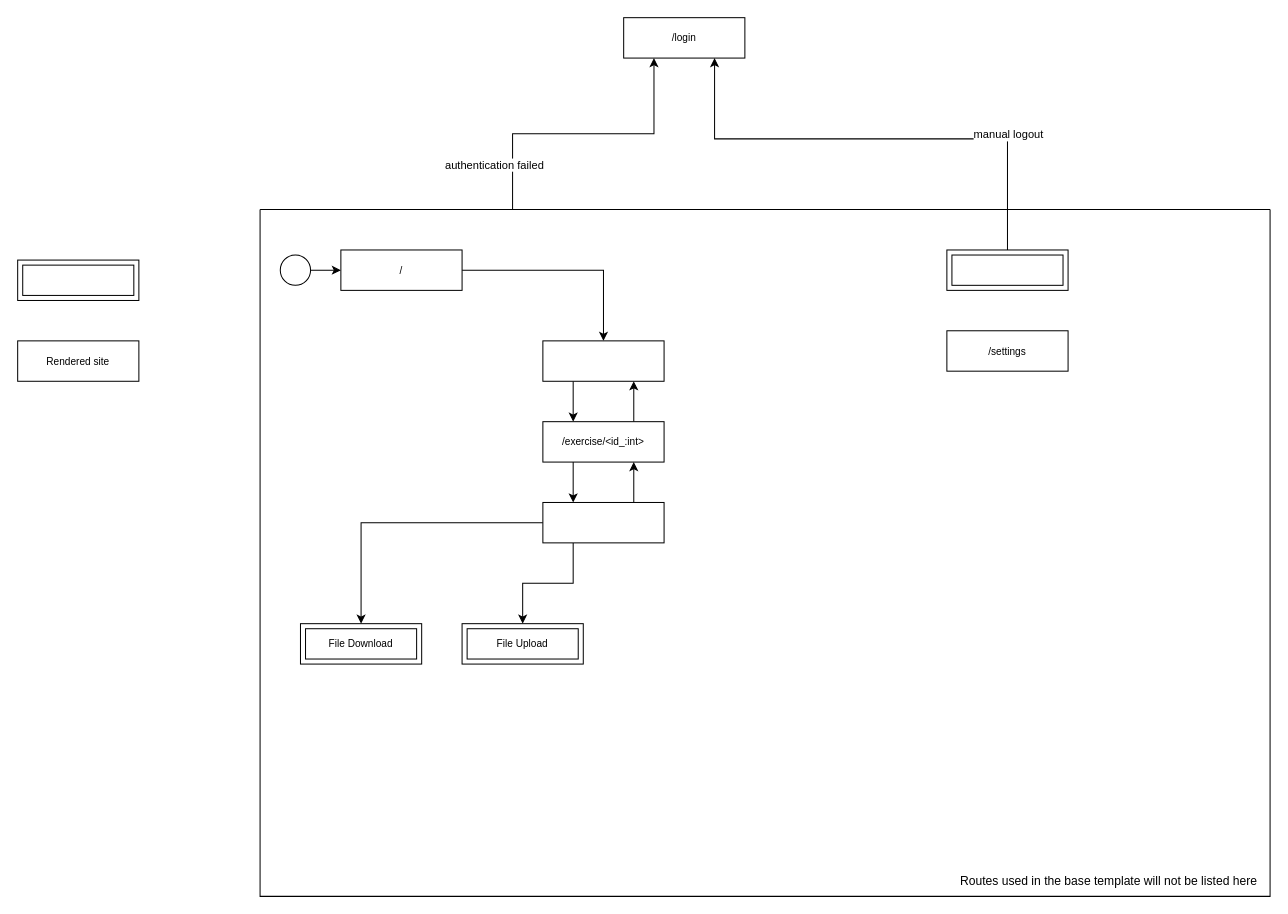
The diagram is 1288 pixels wide and 914 high, and some of its shapes have lost their labels. Here are the shapes that lost their labels. From the top down, the centre of each, then its label:
At point (78, 279): "no Rendered site".
At point (1007, 269): "/logout".
At point (603, 360): "/subject/<id_:int>".
At point (603, 522): "/task/<id_:int>".
